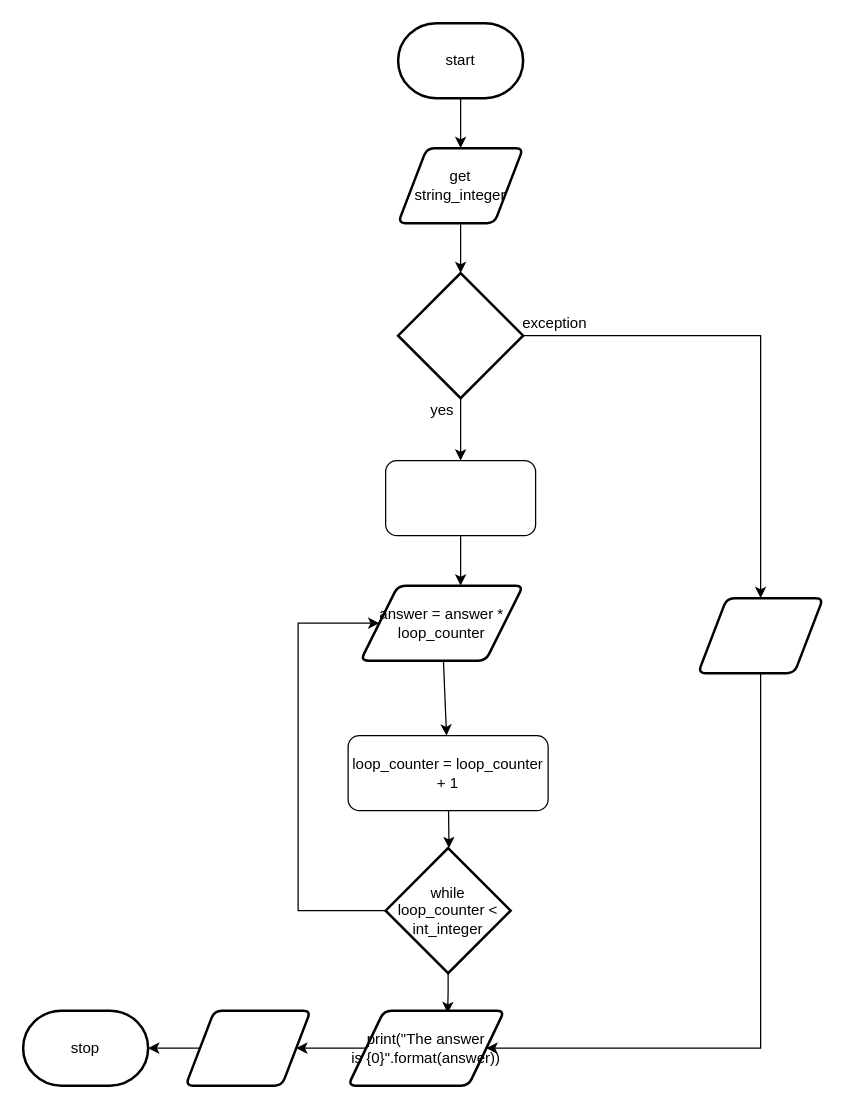
This 845x1108 diagram has some shape labels left out. The shapes that lost their labels are listed below. From the top down, each one's box as (x1, y1, x2, y2) in pixels, then its label:
(396, 271, 524, 399): try
(384, 459, 536, 536): convert string to int
(696, 596, 824, 674): print "Invalid integer."
(184, 1009, 311, 1086): print "thanks for playing!"
